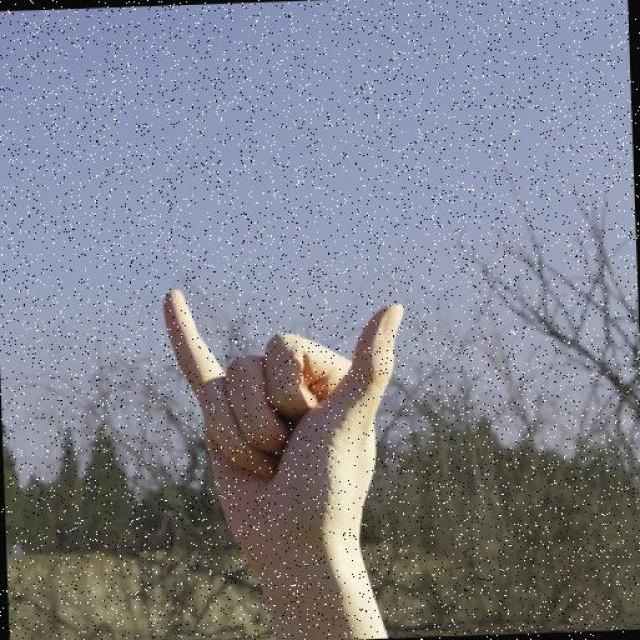Y: (140, 256, 455, 630)
